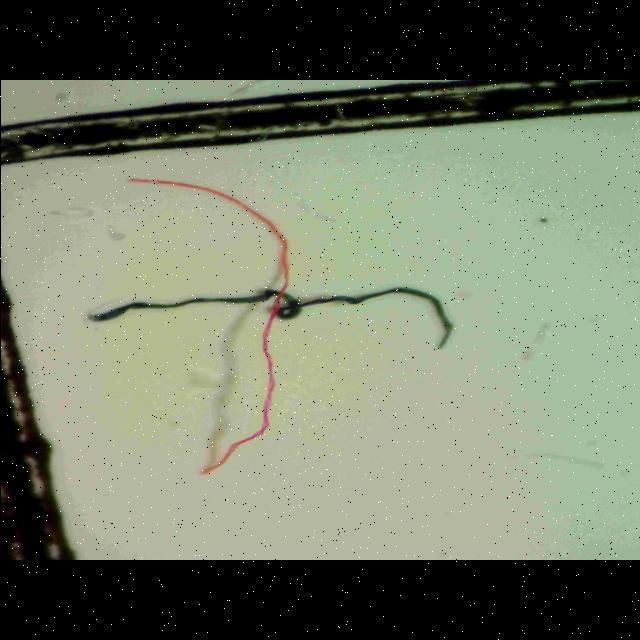Fibre: (124, 176, 294, 478), (79, 286, 477, 352)
